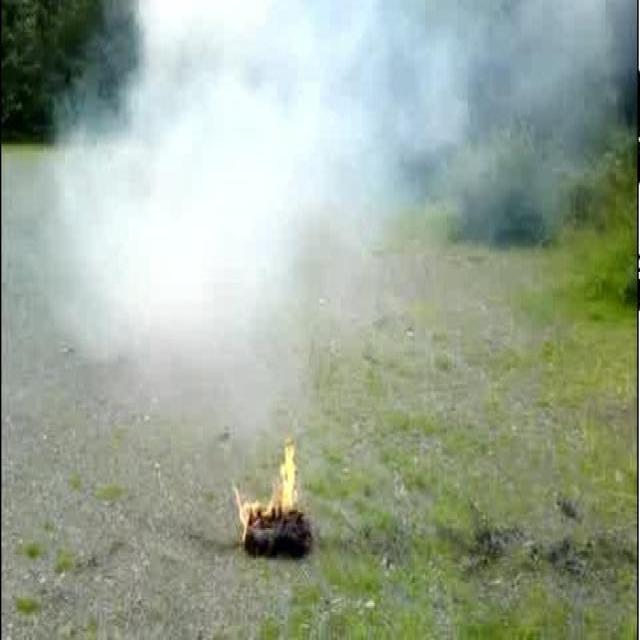Smoke: (39, 0, 636, 453)
